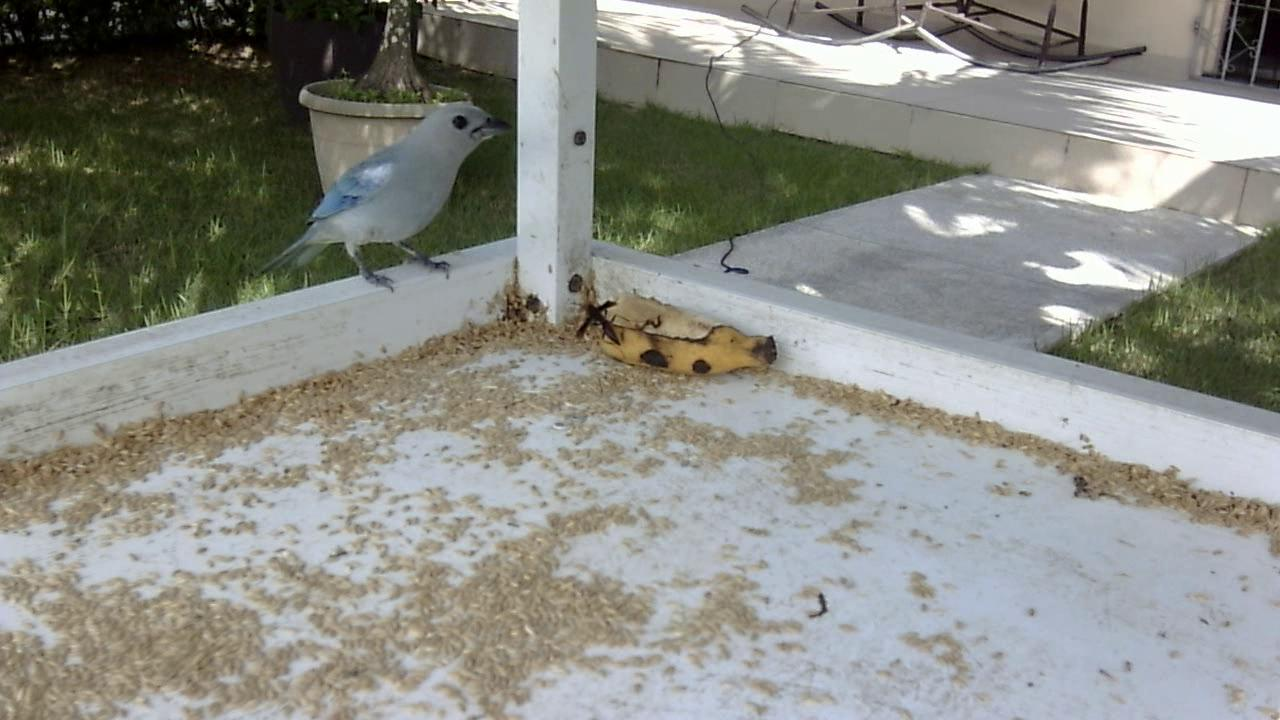sanhaco_da_amazonia: (241, 89, 509, 300)
